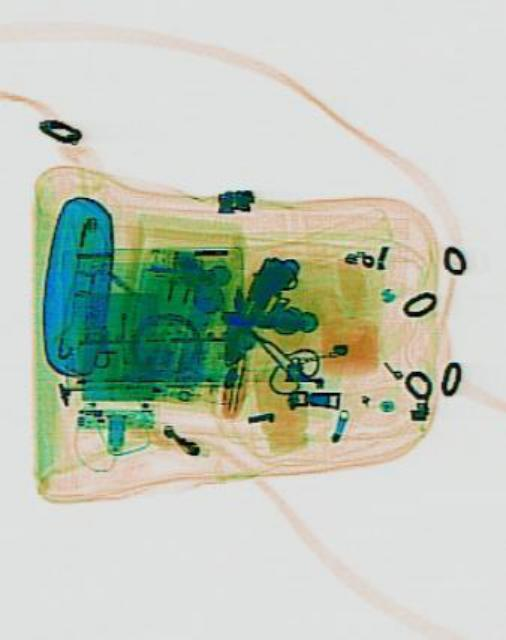Scissors: (223, 296, 323, 408)
